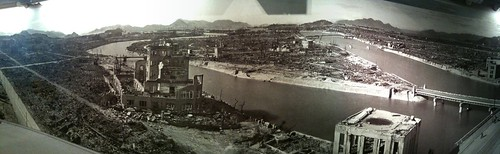bridge: (424, 84, 498, 118)
building: (96, 40, 210, 121), (332, 108, 424, 154)
river: (95, 42, 388, 140), (308, 29, 467, 96)
